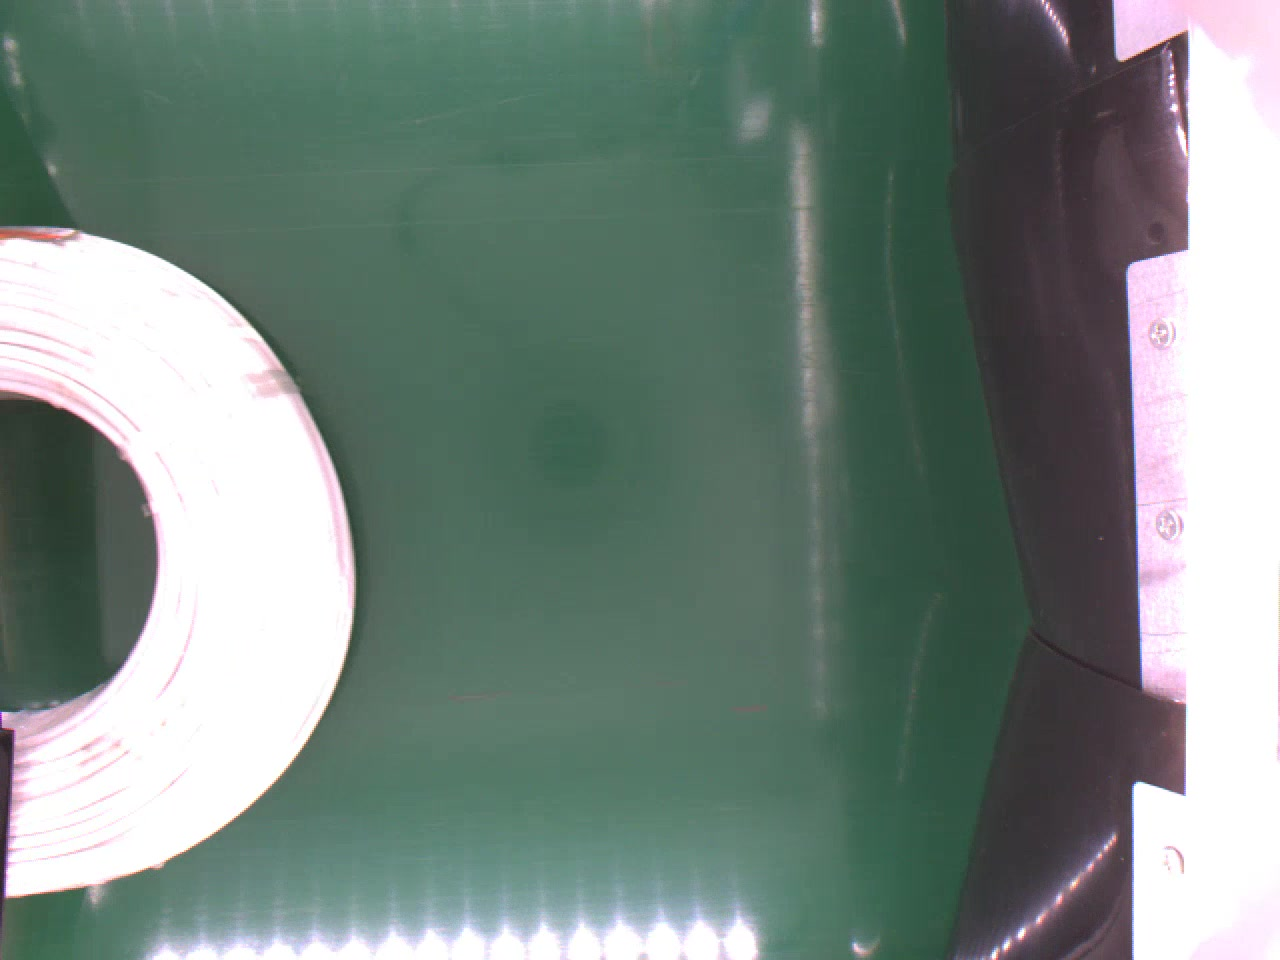white: (0, 224, 356, 904)
